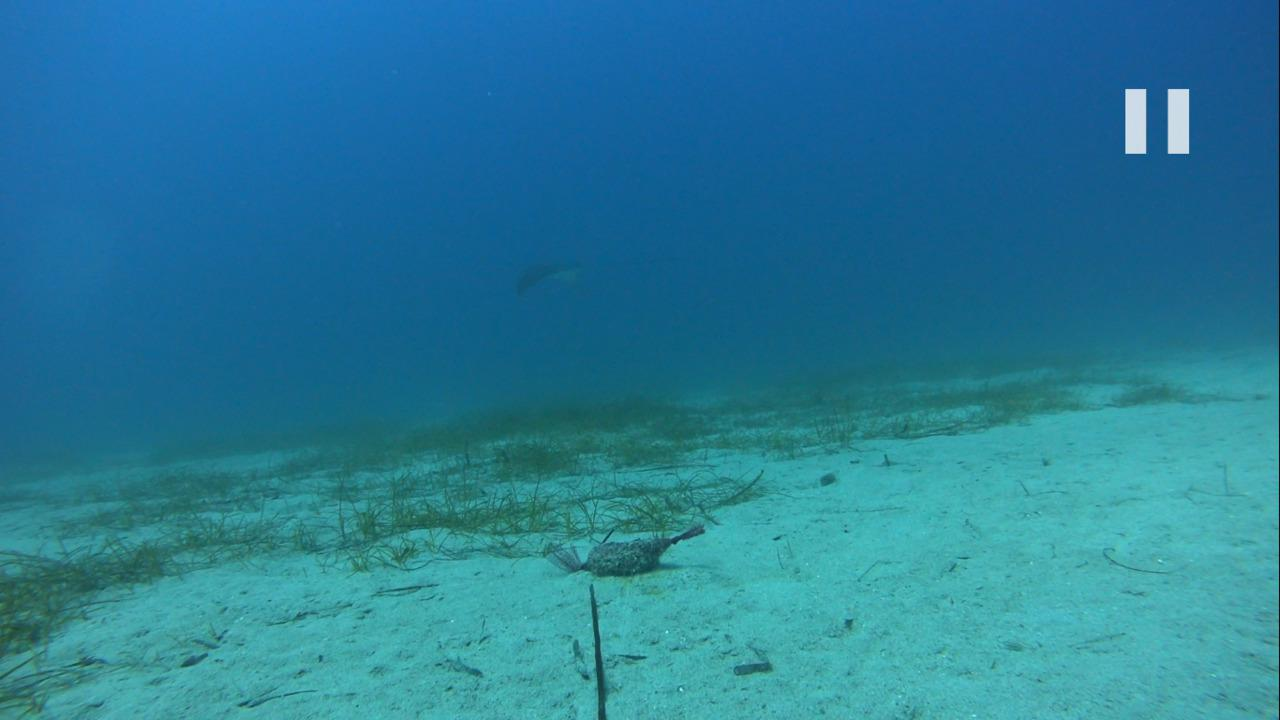myliobatis: (509, 245, 669, 311)
